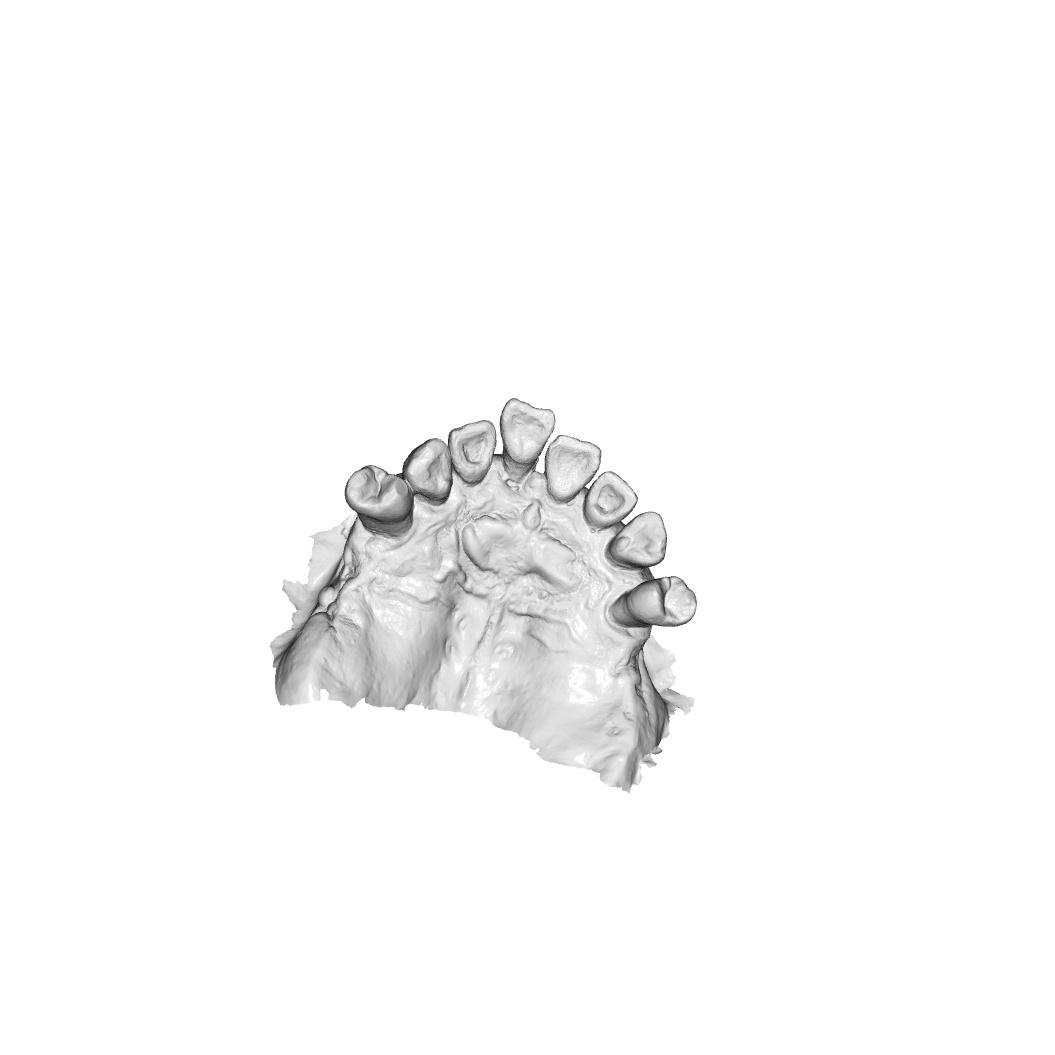canine: (402, 436, 454, 503), (608, 510, 669, 567)
incisor: (499, 397, 557, 466), (544, 434, 602, 502), (447, 418, 499, 485), (581, 469, 639, 529)
premolar: (344, 464, 414, 525), (625, 575, 699, 627)
